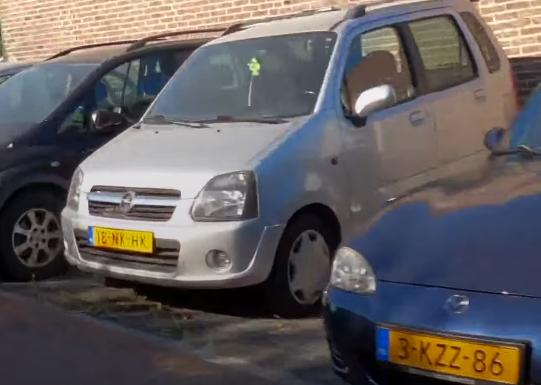license-plate: (374, 322, 524, 385), (86, 226, 153, 256)
